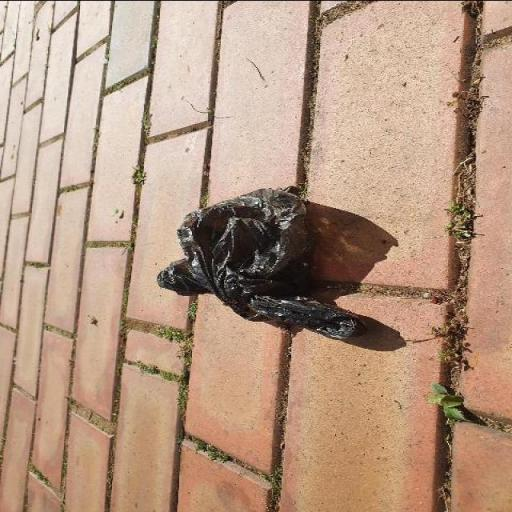plastic-bag: (152, 184, 370, 342)
